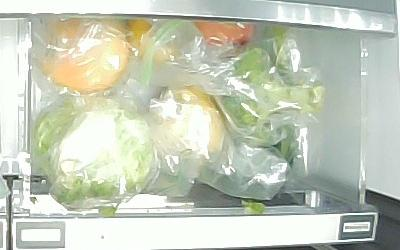apple_vinyl: (197, 21, 254, 48)
broccoli_vinyl: (222, 47, 324, 146)
grapefruit_vinyl: (38, 20, 130, 93)
lettuce_vinyl: (39, 95, 156, 208)
paprika_vinyl: (149, 87, 224, 162)
persimmon_vinyl: (130, 21, 179, 64)
